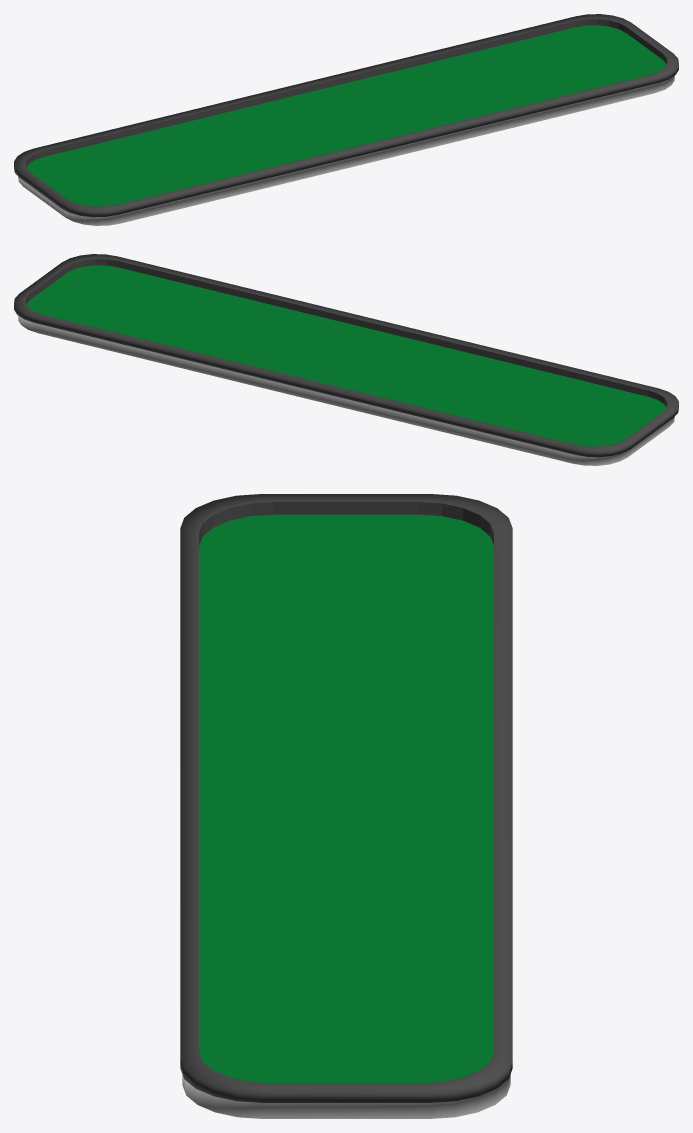
The model's file is Flowerbed-07r.fbx.
3 views of the same model, one above another, from view 1: azimuth 30°, elevation 25°; view 2: azimuth 150°, elevation 25°; view 3: azimuth 270°, elevation 25° (orthographic). The views are drawn at different scales.
Parts seen in each view (by area): view 1: Flowerbed-07r; view 2: Flowerbed-07r; view 3: Flowerbed-07r.
Part boxes in pixels (x1,y1,x2,y2): Flowerbed-07r: (14,14,678,225); Flowerbed-07r: (14,254,678,465); Flowerbed-07r: (180,494,512,1118).
Size of the model in its own units: 6.28 by 0.1536 by 1.48.
